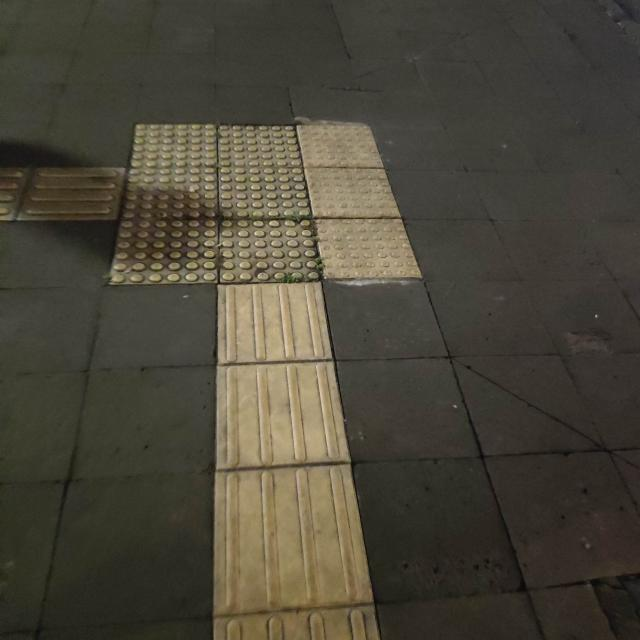kiri: (0, 109, 335, 363)
